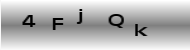4: (21, 14, 36, 27)
F: (50, 17, 64, 31)
Q: (107, 13, 124, 29)
j: (76, 8, 84, 25)
k: (134, 23, 148, 37)
